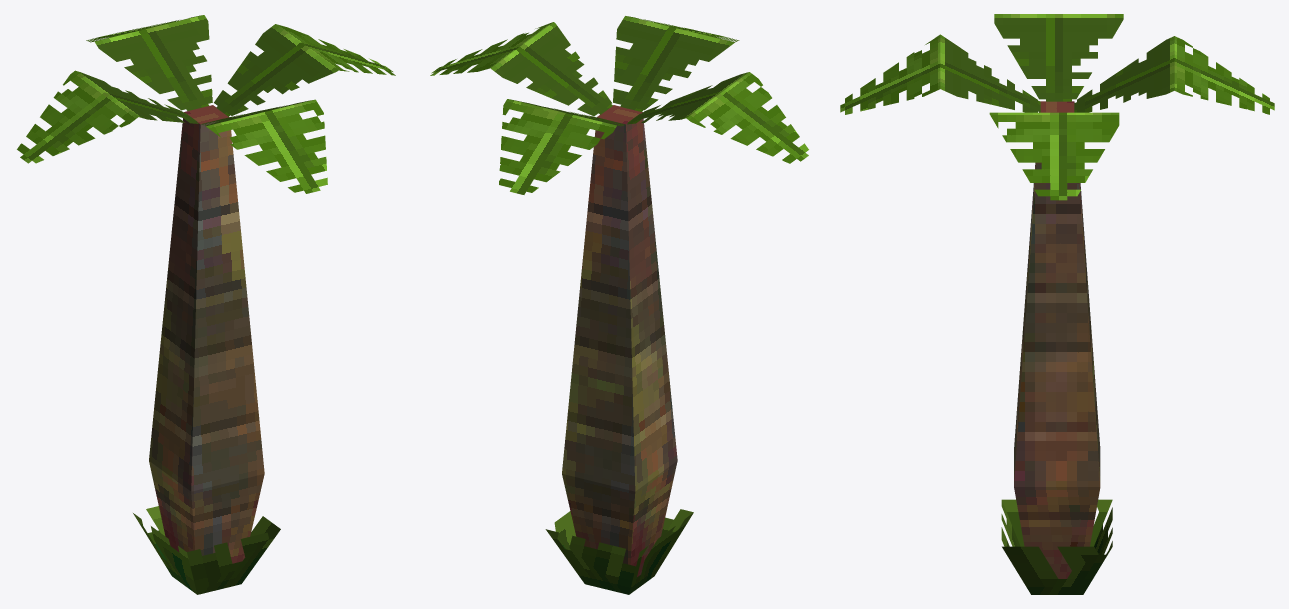
Rendered from palmtree.dae.
3 renders of one model, left to right at view 1: azimuth 30°, elevation 25°; view 2: azimuth 150°, elevation 25°; view 3: azimuth 270°, elevation 25°, orthographic. The views are drawn at different scales.
Parts seen in each view (by area): view 1: Palm Tree; view 2: Palm Tree; view 3: Palm Tree.
Part boxes in pixels (<box>): Palm Tree: <box>17,15,395,594</box>; Palm Tree: <box>430,16,808,594</box>; Palm Tree: <box>840,14,1274,594</box>.
Size of the model in its own units: 2.65 by 2.65 by 3.51.
Materials: 1 (1 with a texture image).
